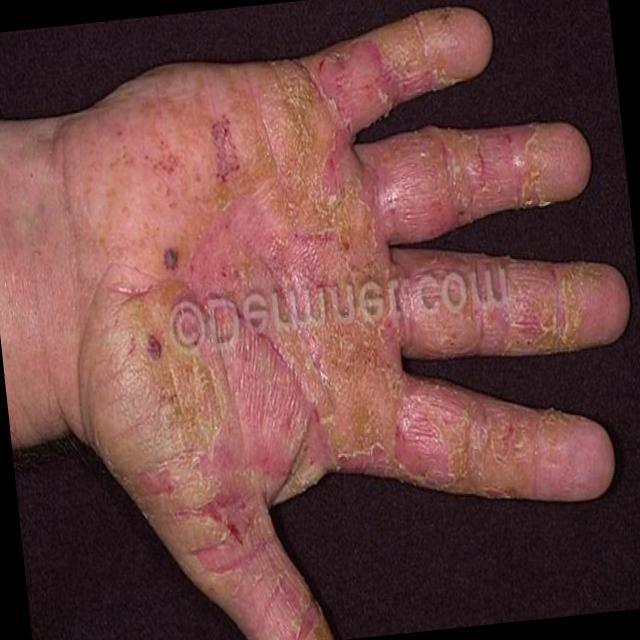Eczema: (90, 12, 611, 536)
